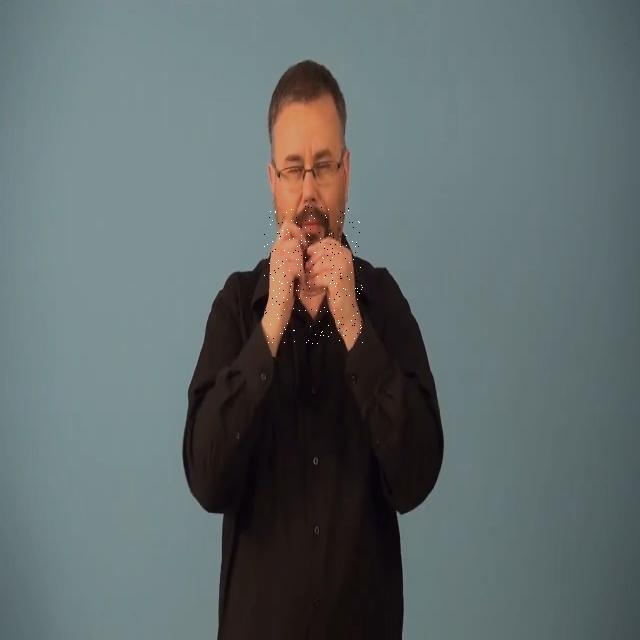juicy: (264, 206, 363, 344)
